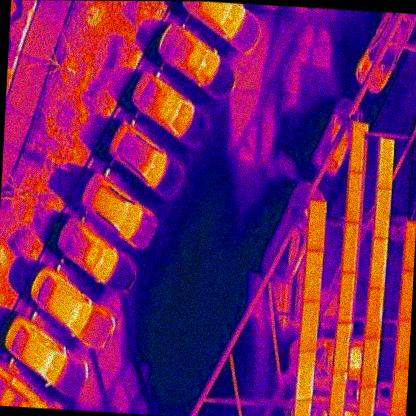Diode: (295, 347, 316, 403), (368, 235, 388, 290), (365, 287, 384, 341), (358, 384, 375, 416)
Normal: (301, 247, 322, 304), (299, 298, 319, 356), (336, 268, 356, 325), (344, 170, 364, 226), (340, 220, 360, 274), (306, 199, 326, 253), (333, 321, 352, 375), (362, 334, 380, 389), (373, 186, 391, 238), (389, 367, 408, 416), (328, 368, 347, 416), (378, 136, 394, 188), (348, 121, 364, 171)
